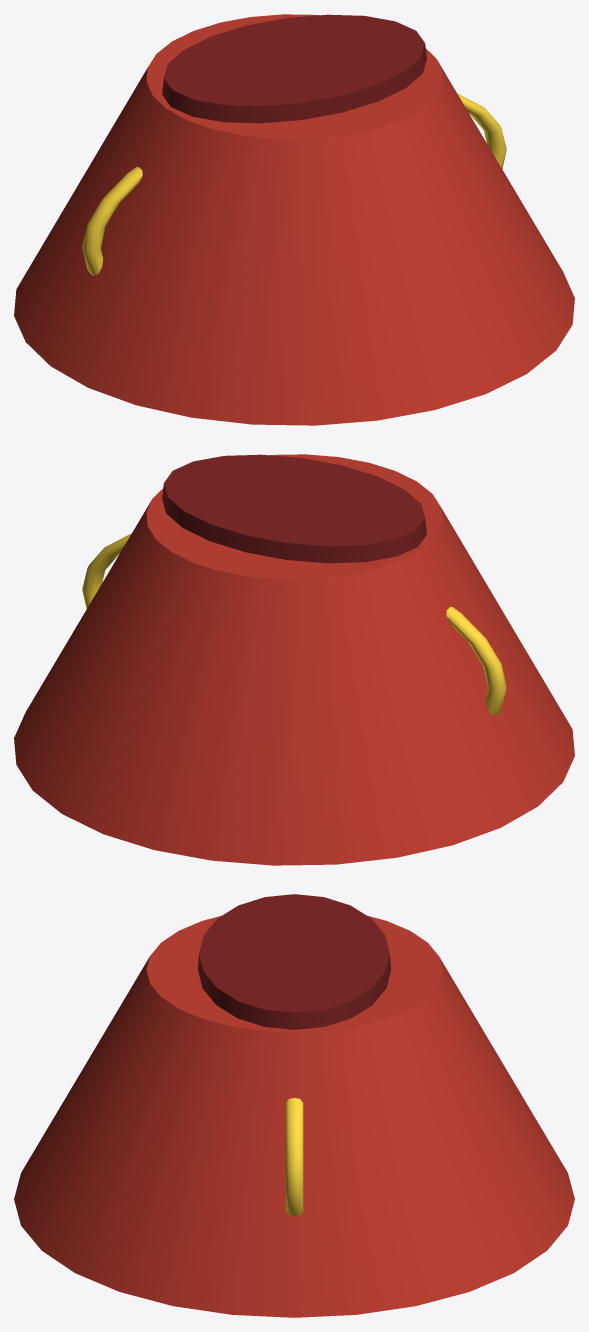
The model's file is bottom_ancient_1.glb.
The picture shows the model from 3 angles, top to bottom: view 1: azimuth 30°, elevation 25°; view 2: azimuth 150°, elevation 25°; view 3: azimuth 270°, elevation 25°; orthographic projection.
Size of the model in its own units: 0.8064 by 0.39 by 0.8064.
